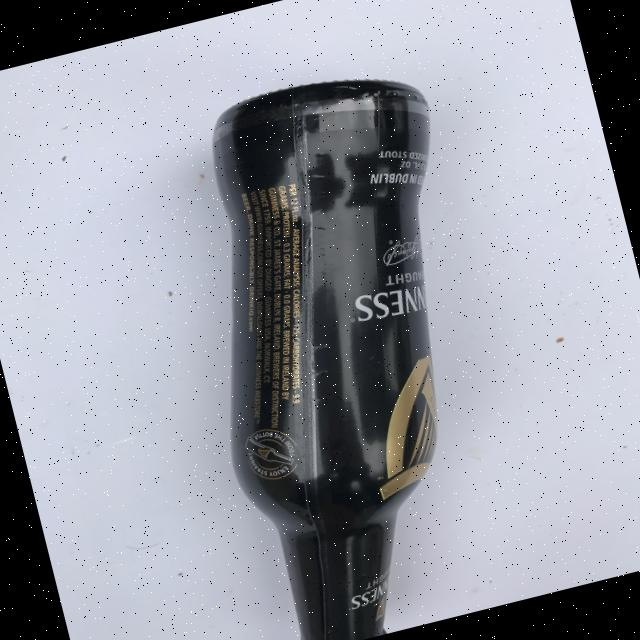glass: (145, 53, 550, 640)
